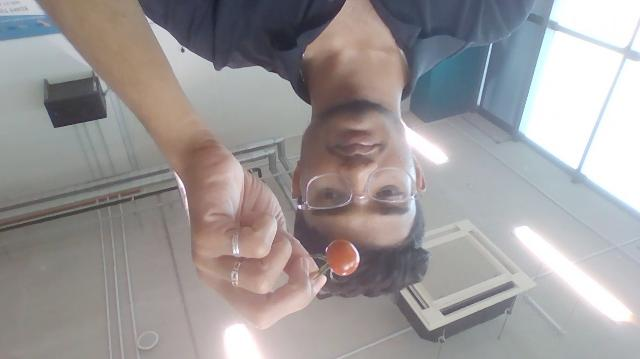Fully Grown: (324, 238, 361, 277)
